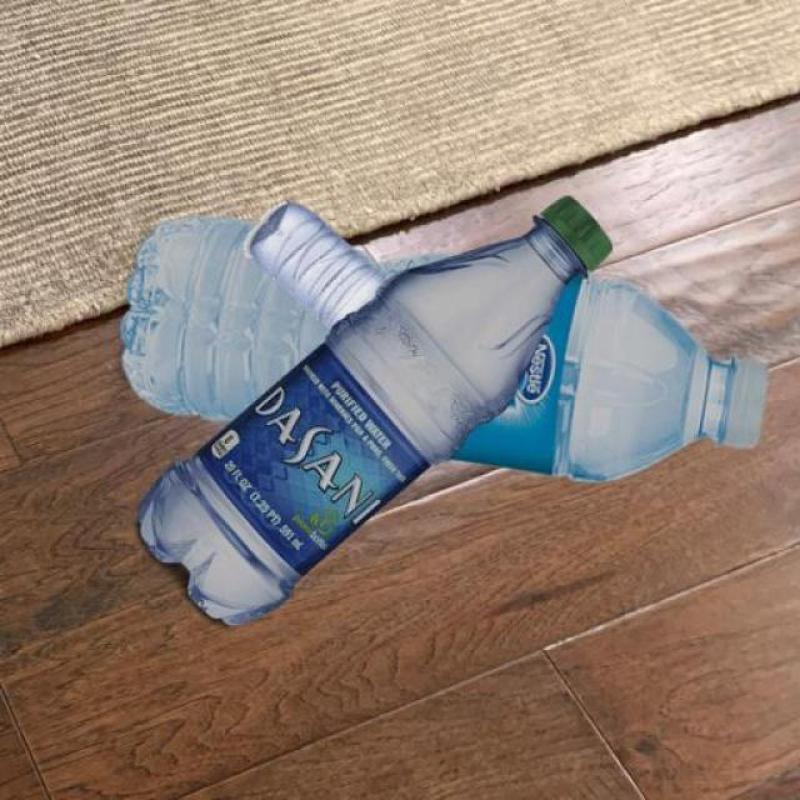botella: (137, 194, 612, 633), (117, 214, 768, 486), (251, 202, 388, 328)
